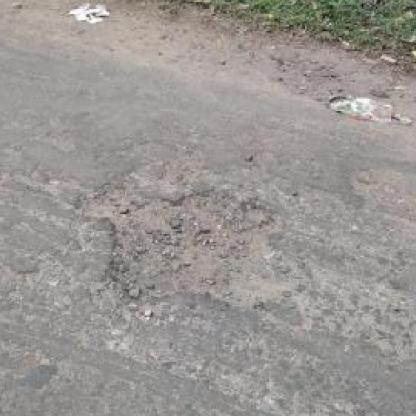pothole: (73, 184, 292, 311)
